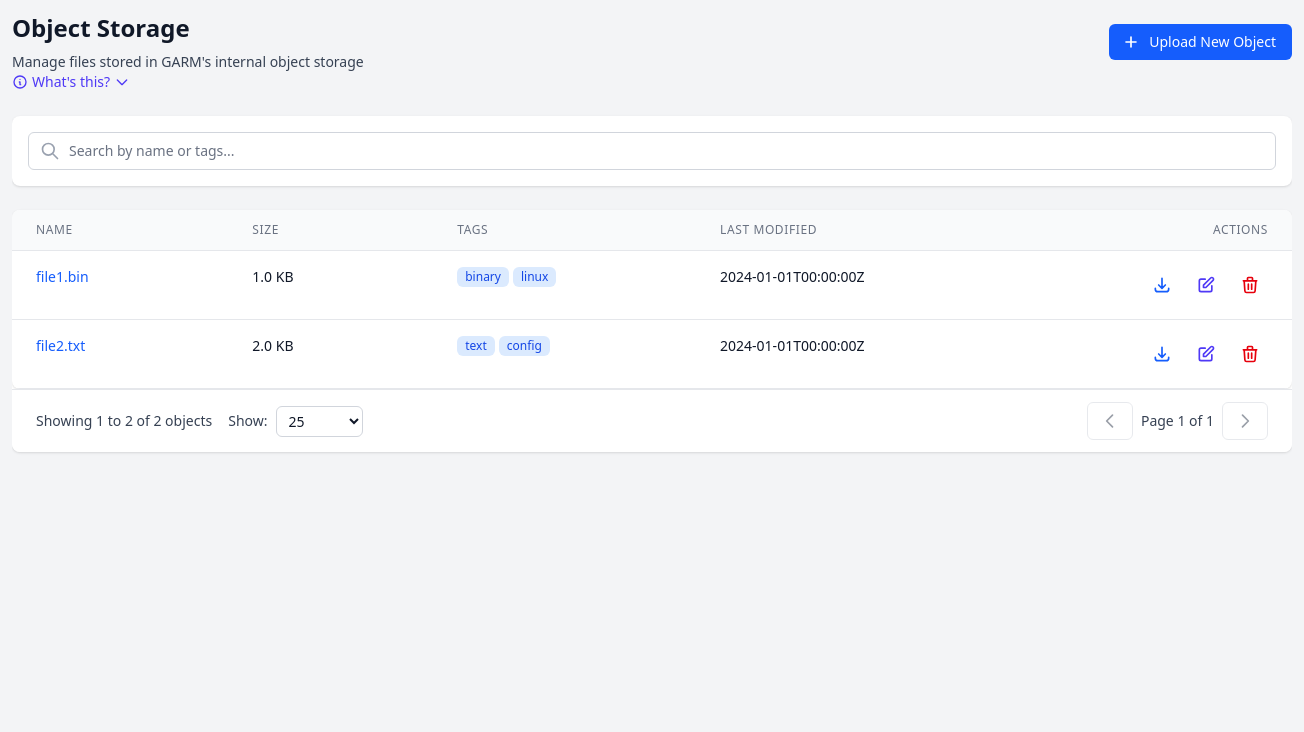
Test: Objects Page - Integration Tests › What's This Description › should toggle description when clicked
The width and height of the screenshot is (1304, 732).
Note: Click to show
What coordinates should you click on to do the following:
click the button "What's this?"
I would click on:
 (71, 82)
Its box is 12,72 -> 130,92.
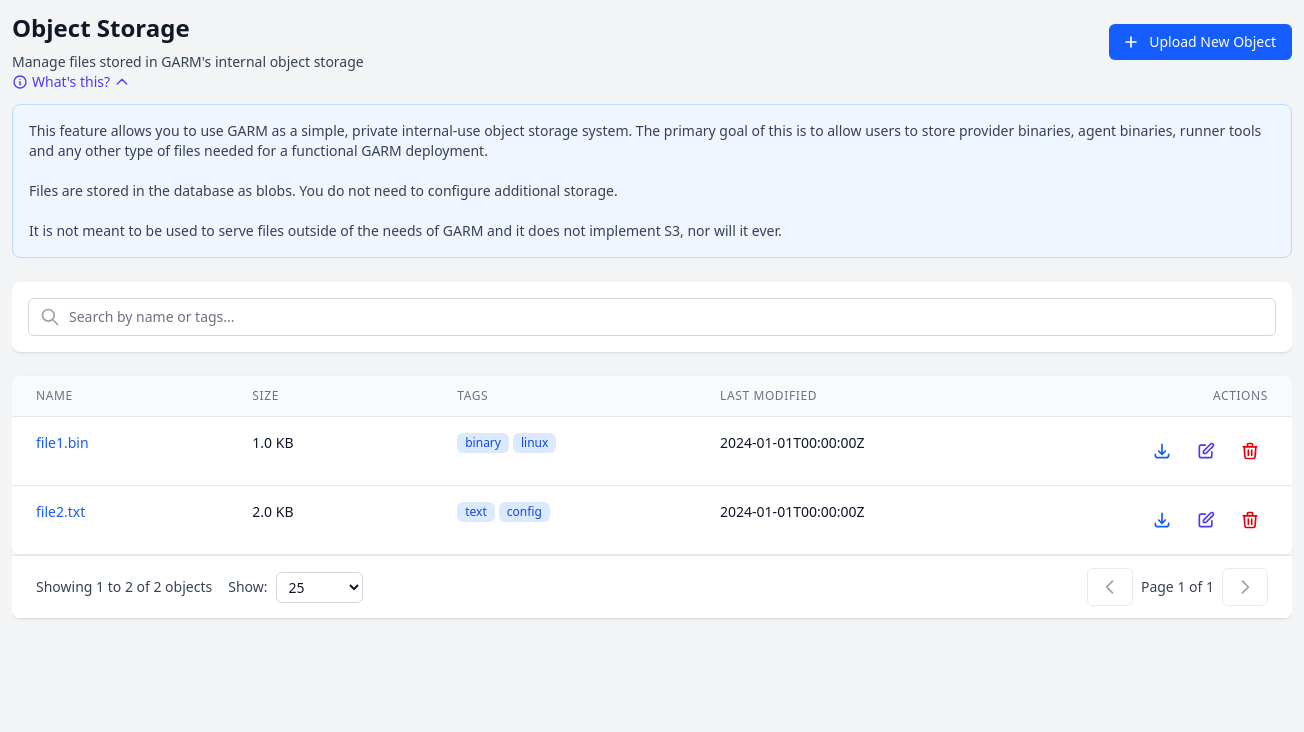
Result: the text "primary goal of this is" is shown at 29,121 -> 1265,240
Note: Click to hide
What coordinates should you click on to do the following:
click the button "What's this?"
I would click on:
 (71, 82)
Its box is 12,72 -> 130,92.
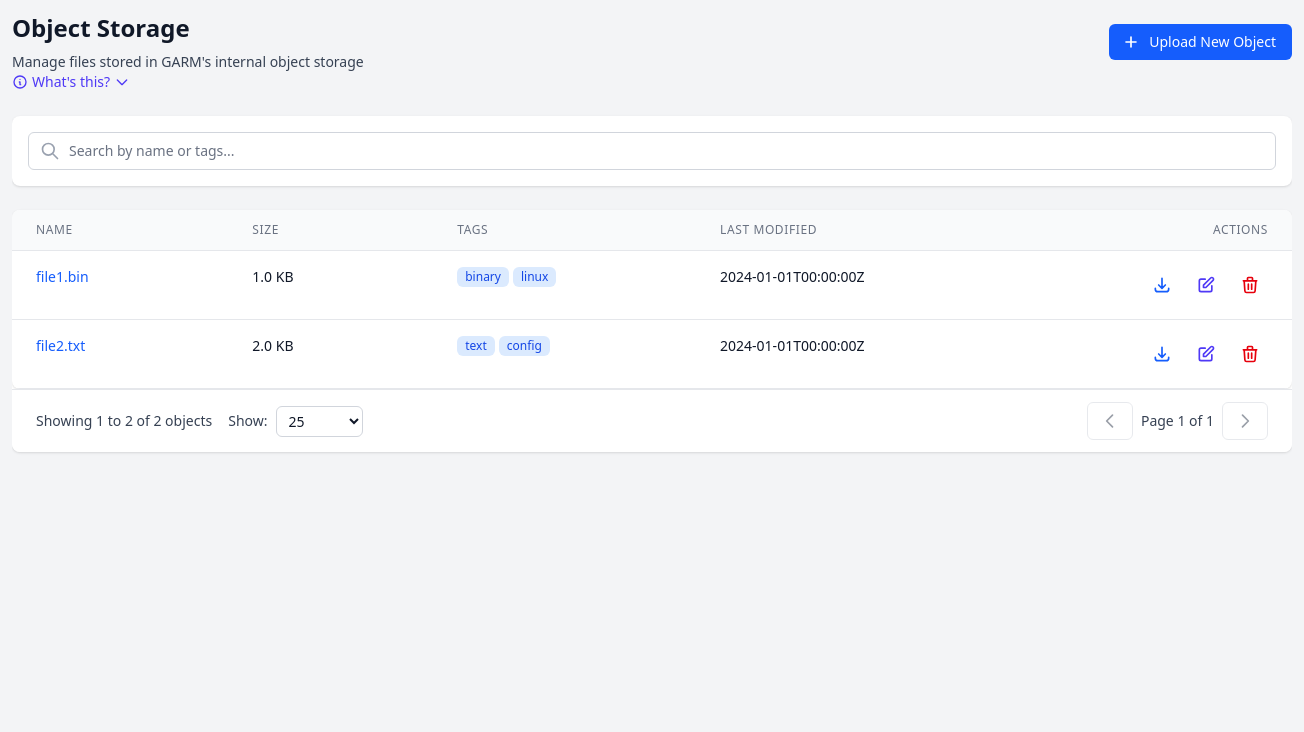
Result: the text "primary goal of this is" is gone
